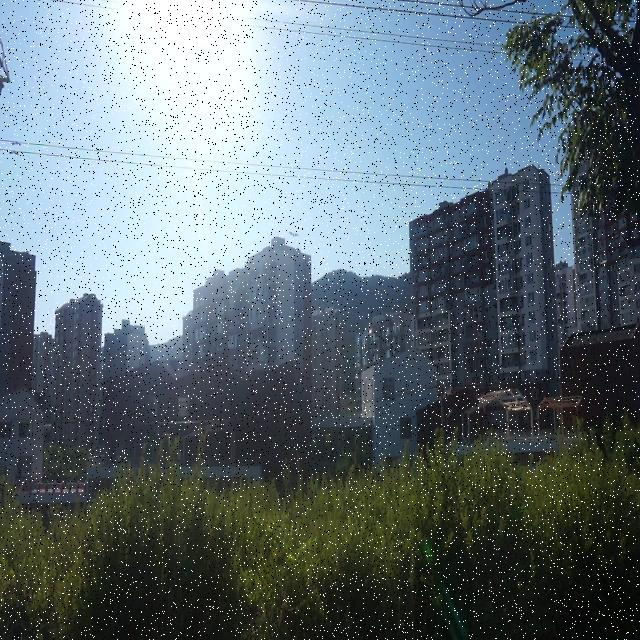UAV: (288, 232, 299, 238)
